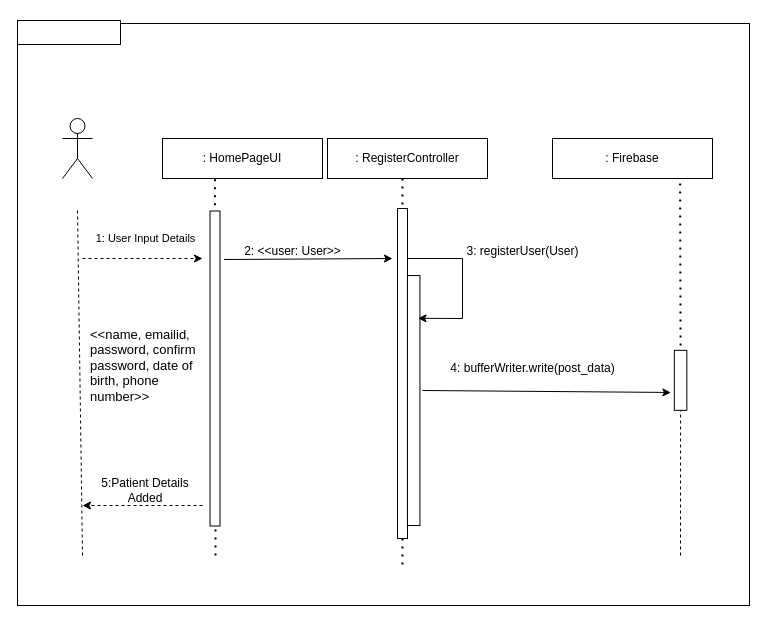
Image size: 767x623. Some labels were removed from this diagram. Here are the shapes that lost their labels. From the top down, the centre of each, then its label:
At point 68,32: "sd Register User".
At point 77,148: "User".
